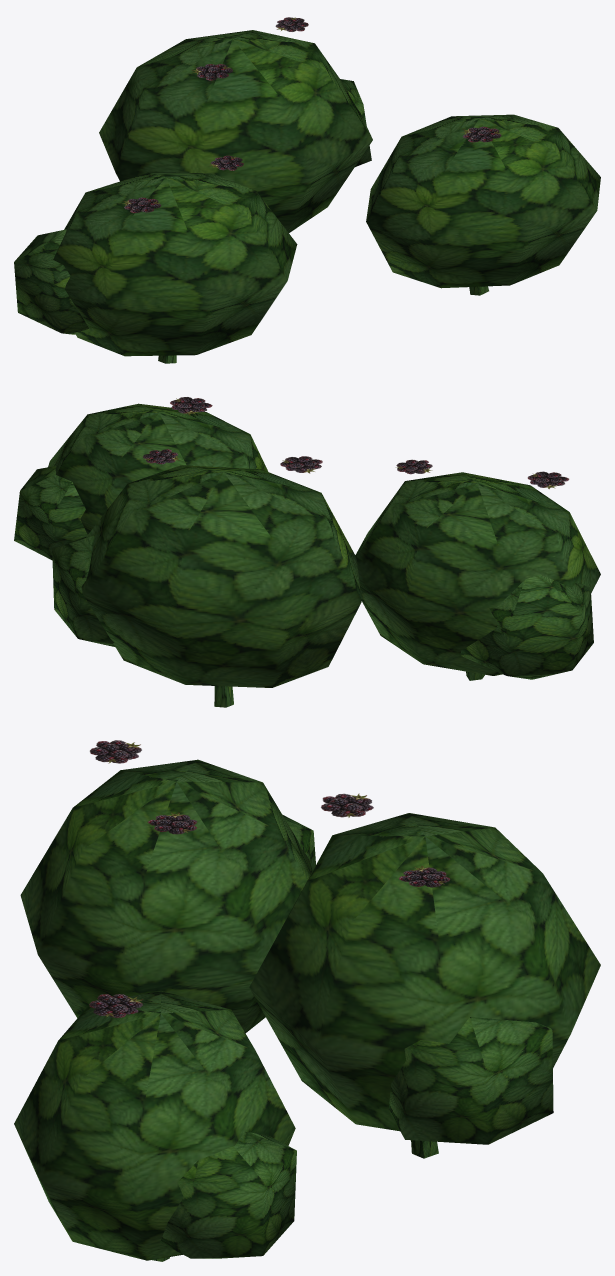
File: nodo-berry-2x2-BfEAdXUa.glb
The picture shows the model from 3 angles, top to bottom: view 1: azimuth 30°, elevation 25°; view 2: azimuth 150°, elevation 25°; view 3: azimuth 270°, elevation 25°; orthographic projection. The views are drawn at different scales.
Parts seen in each view (by area): view 1: nodo-berry-2x2-v4; view 2: nodo-berry-2x2-v4; view 3: nodo-berry-2x2-v4.
Part boxes in pixels (<box>): nodo-berry-2x2-v4: <box>14,17,600,363</box>; nodo-berry-2x2-v4: <box>14,397,600,707</box>; nodo-berry-2x2-v4: <box>14,740,600,1261</box>.
Bounding box in the file's own units: 46.61 × 18.11 × 30.41.
2 materials, 2 textured.
